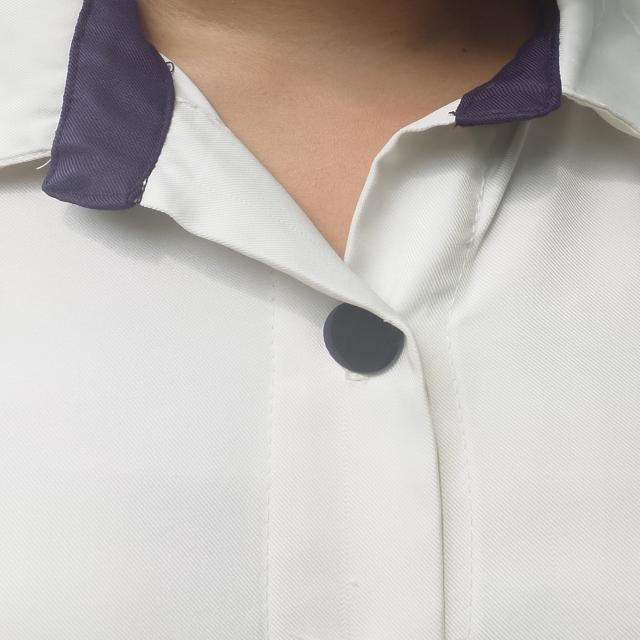education_female_uniform: (0, 3, 640, 495)
